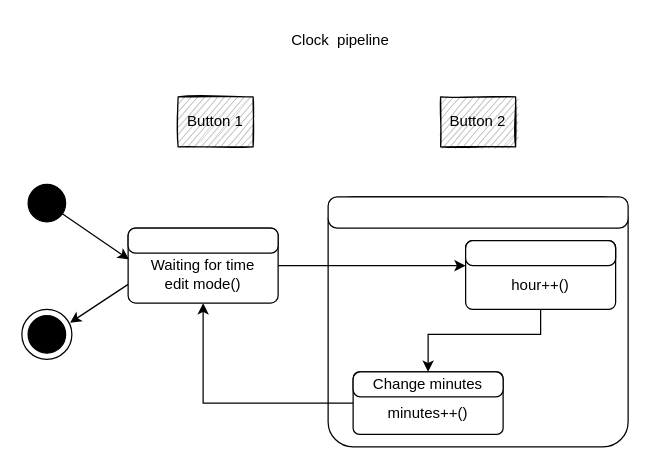
The diagram is 650 pixels wide and 469 high, and some of its shapes have lost their labels. Each missing label, with the centre of its shape:
Change hours: the point at 540,252
Time set: the point at 477,212
Time Showing: the point at 202,240
